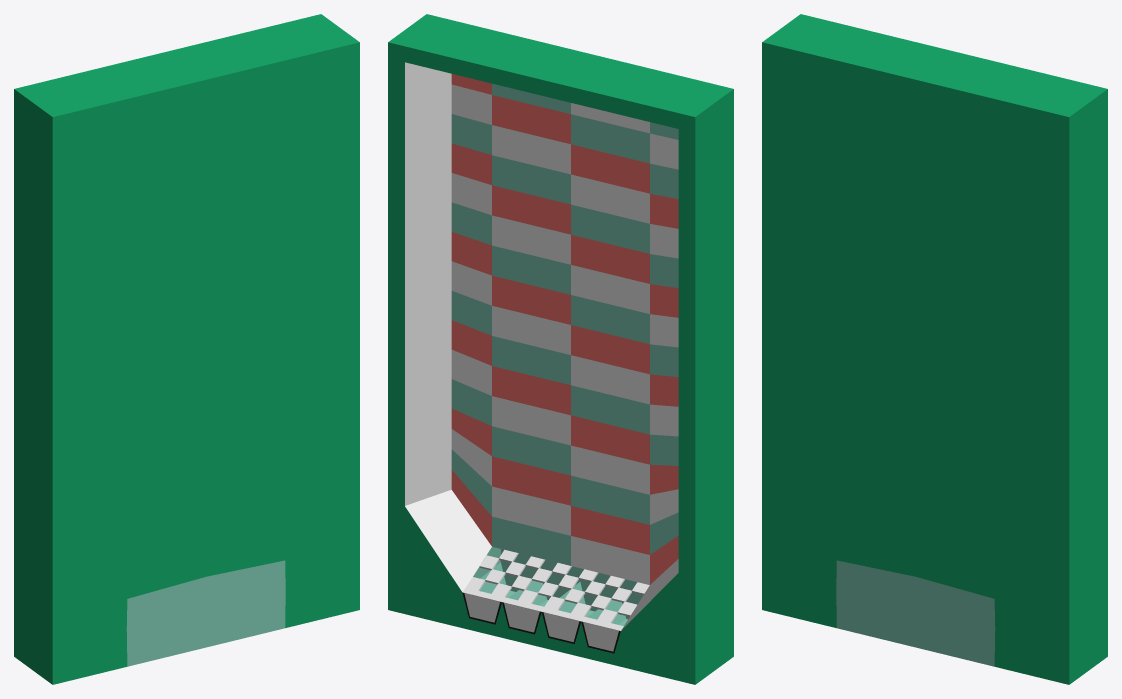
Rendered from last_bg_christmas.fbx.
The picture shows the model from 3 angles, left to right: view 1: azimuth 30°, elevation 25°; view 2: azimuth 150°, elevation 25°; view 3: azimuth 330°, elevation 25°; orthographic projection.
Parts seen in each view (by area): view 1: background_green.002; view 2: background_green.002, grille.green.002; view 3: background_green.002.
Part boxes in pixels (x1,y1,x2,y2): background_green.002: (14,14,359,684); background_green.002: (388,14,733,684); grille.green.002: (462,549,649,631); background_green.002: (762,14,1107,684).
Size of the model in its own units: 9.06 by 16 by 1.97.
